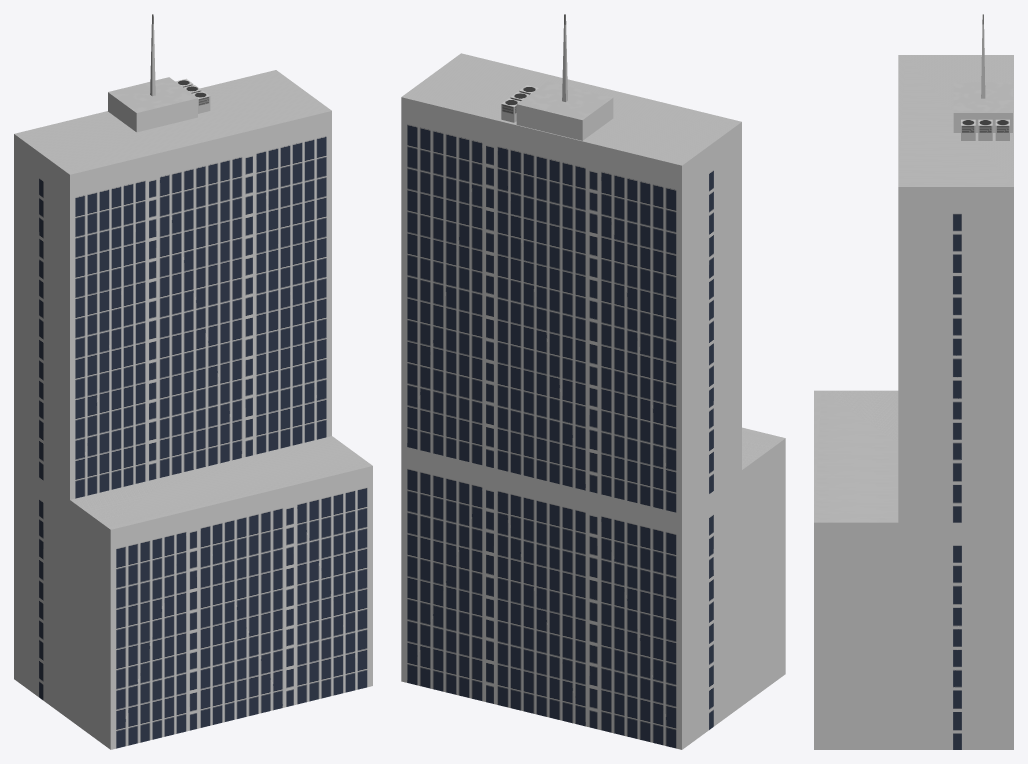
Rendered from Building_M2_W1_W3_001.fbx.
3 renders of one model, left to right at view 1: azimuth 30°, elevation 25°; view 2: azimuth 150°, elevation 25°; view 3: azimuth 270°, elevation 25°, orthographic. The views are drawn at different scales.
Parts seen in each view (by area): view 1: Building_M2_W1_W3_001; view 2: Building_M2_W1_W3_001; view 3: Building_M2_W1_W3_001.
Part boxes in pixels (<box>): Building_M2_W1_W3_001: <box>14,14,372,749</box>; Building_M2_W1_W3_001: <box>401,14,785,749</box>; Building_M2_W1_W3_001: <box>814,14,1013,749</box>.
Bounding box in the file's own units: 59.81 × 141 × 38.24.
